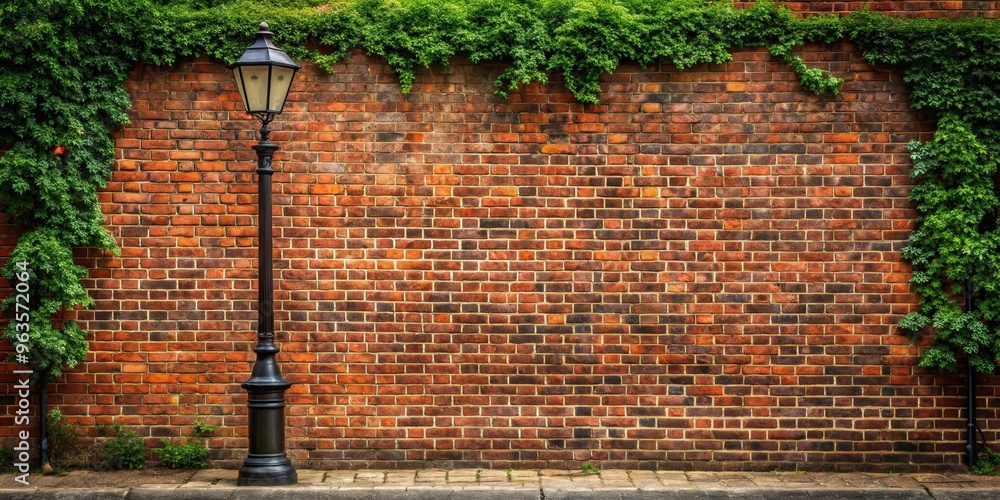Lamp: (231, 31, 300, 482)
Wall: (303, 109, 903, 464)
